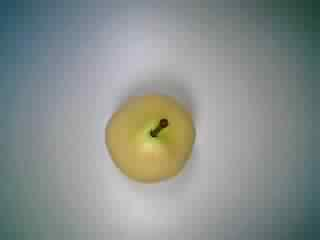pear: (94, 86, 199, 189)
